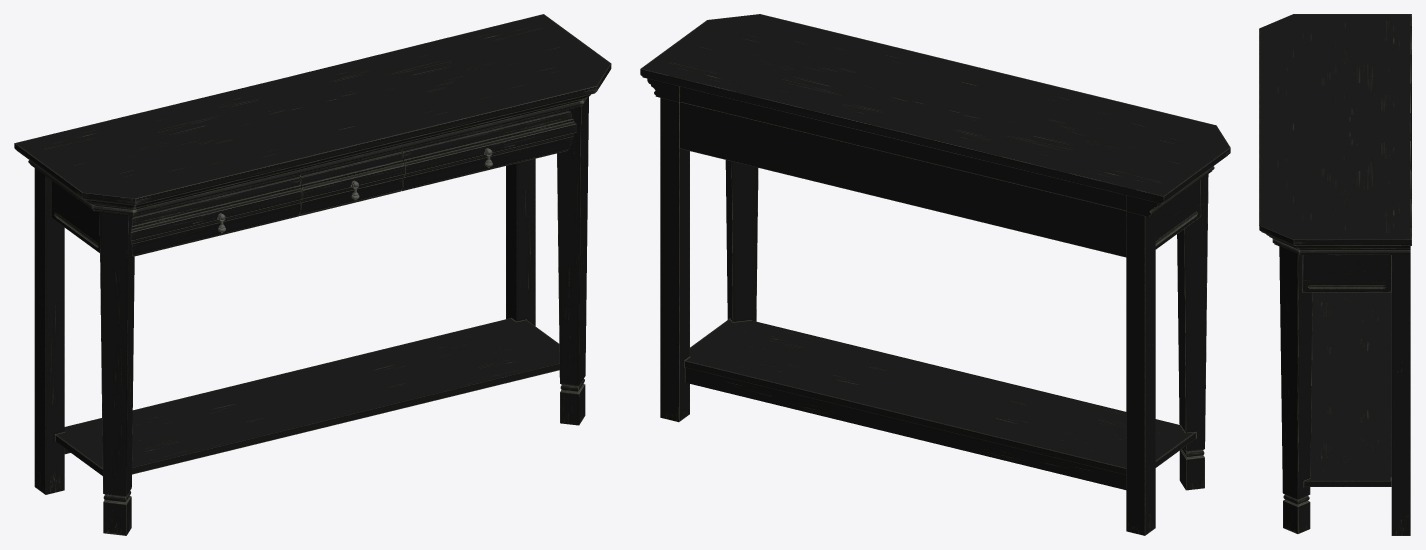
Rendered from example93.gltf.
3 views of the same model, side by side, from view 1: azimuth 30°, elevation 25°; view 2: azimuth 150°, elevation 25°; view 3: azimuth 270°, elevation 25° (orthographic). The views are drawn at different scales.
Size of the model in its own units: 140 by 88 by 40.
2 materials, 2 textured.
